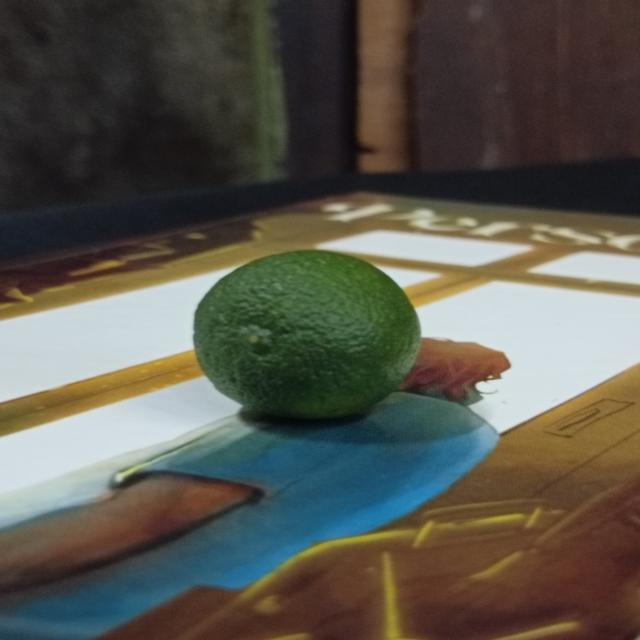heathy: (184, 245, 428, 424)
